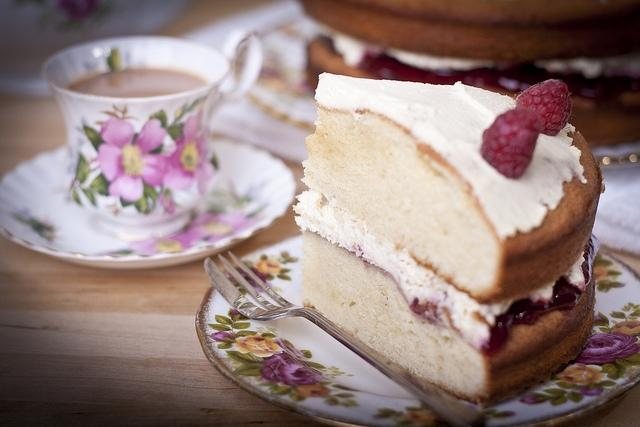raspberry: (479, 108, 542, 180), (514, 79, 572, 136)
